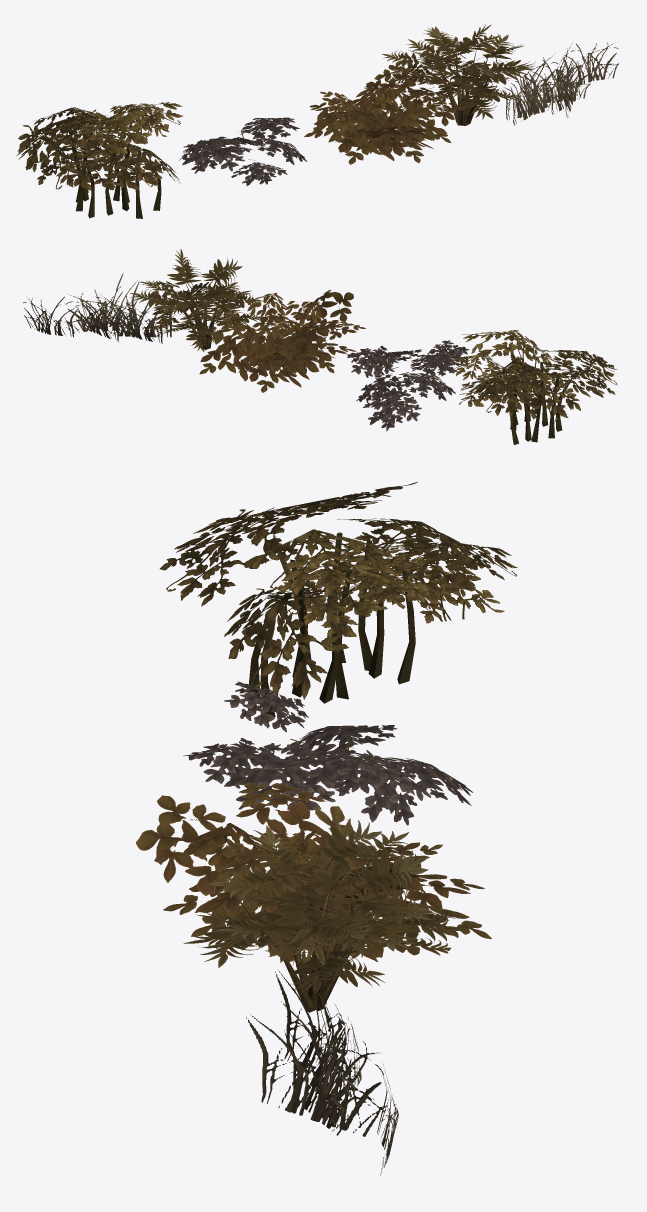
Rendered from s7_Y_plant.FBX.
3 renders of one model, top to bottom at view 1: azimuth 30°, elevation 25°; view 2: azimuth 150°, elevation 25°; view 3: azimuth 270°, elevation 25°, orthographic. The views are drawn at different scales.
Visible parts, largest first — view 1: s7_Y_plantA, s7_Y_plantC, s7_Y_plantD, s7_Y_plantB, s7_Y_plantE; view 2: s7_Y_plantC, s7_Y_plantA, s7_Y_plantD, s7_Y_plantB, s7_Y_plantE; view 3: s7_Y_plantA, s7_Y_plantD, s7_Y_plantC, s7_Y_plantB, s7_Y_plantE.
Boxes of the visible parts, x1,y1,x2,y2 form: s7_Y_plantA: [16, 102, 183, 218]; s7_Y_plantC: [304, 60, 464, 164]; s7_Y_plantD: [381, 24, 535, 125]; s7_Y_plantB: [179, 117, 307, 185]; s7_Y_plantE: [501, 42, 618, 125]; s7_Y_plantC: [199, 290, 365, 392]; s7_Y_plantA: [451, 330, 617, 444]; s7_Y_plantD: [130, 249, 265, 351]; s7_Y_plantB: [346, 340, 468, 431]; s7_Y_plantE: [23, 272, 177, 343]; s7_Y_plantA: [160, 482, 517, 716]; s7_Y_plantD: [183, 818, 467, 1012]; s7_Y_plantC: [136, 782, 491, 969]; s7_Y_plantB: [183, 681, 472, 825]; s7_Y_plantE: [246, 965, 398, 1175].
Size of the model in its own units: 22.46 by 3.66 by 6.75.
1 material, 1 textured.
